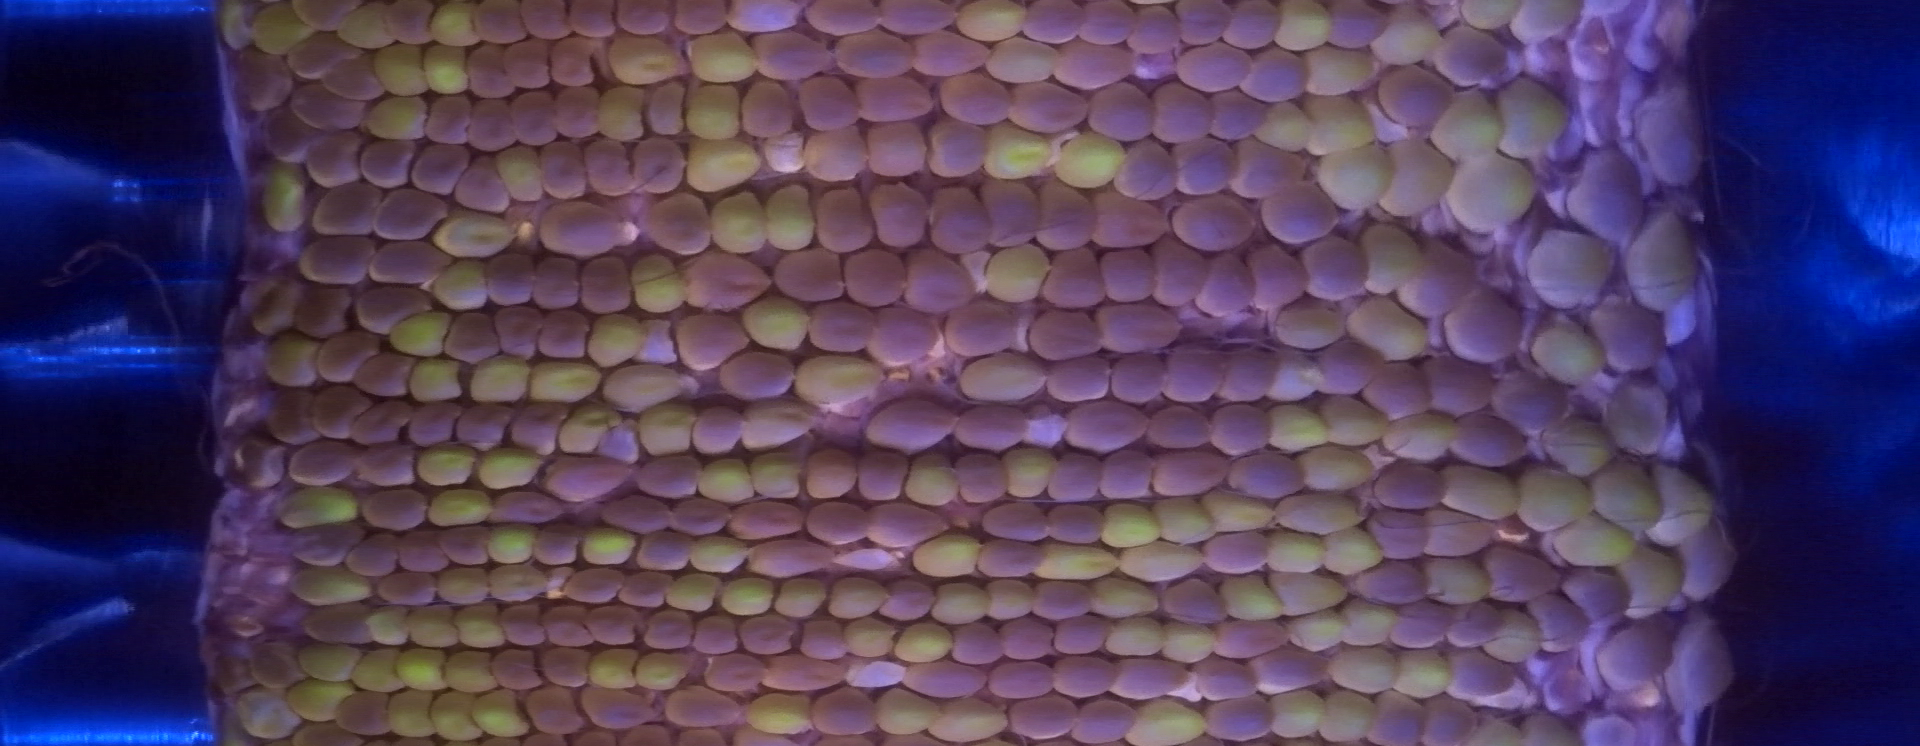fluorescent: (1618, 203, 1703, 317), (1438, 147, 1547, 235), (1633, 452, 1724, 557), (1523, 220, 1619, 314), (1485, 69, 1573, 167), (1581, 453, 1674, 543), (1373, 134, 1461, 225), (1501, 462, 1604, 538), (1288, 88, 1389, 164), (1600, 372, 1681, 467), (1610, 541, 1696, 624), (1424, 85, 1511, 165), (1524, 314, 1611, 394), (789, 348, 893, 415), (1434, 462, 1533, 532), (1341, 293, 1436, 365), (1544, 510, 1646, 577), (1349, 219, 1430, 304), (1311, 138, 1396, 218), (1046, 124, 1134, 200), (1536, 410, 1625, 484), (954, 348, 1056, 412), (250, 152, 320, 244), (1368, 1, 1453, 75), (1376, 404, 1471, 470), (976, 239, 1060, 312), (600, 359, 696, 423), (680, 24, 767, 94), (975, 118, 1058, 190), (1269, 485, 1375, 541), (978, 27, 1069, 93), (678, 134, 770, 198), (1408, 548, 1505, 609), (736, 293, 820, 363), (1024, 537, 1130, 592), (675, 78, 754, 152), (733, 393, 823, 457), (700, 185, 776, 260), (920, 688, 1018, 746), (598, 29, 686, 93), (1294, 42, 1382, 105), (1311, 387, 1396, 453), (623, 247, 700, 320), (1113, 695, 1221, 746), (1294, 439, 1386, 499), (460, 349, 544, 415), (269, 483, 369, 538), (429, 209, 523, 267), (279, 562, 384, 614), (1081, 572, 1176, 628), (1260, 342, 1333, 414), (629, 397, 709, 463), (1194, 485, 1286, 541), (255, 325, 328, 394), (516, 355, 610, 409), (1089, 494, 1173, 554), (1325, 642, 1409, 702), (1476, 604, 1549, 673), (578, 309, 654, 375), (759, 183, 824, 260), (736, 448, 813, 512), (460, 682, 538, 746), (1113, 538, 1216, 586), (1260, 567, 1356, 619), (1256, 398, 1343, 454), (223, 682, 302, 744), (239, 274, 311, 342), (1385, 642, 1461, 706), (1314, 526, 1396, 584), (240, 1, 317, 64), (236, 635, 313, 697), (485, 140, 553, 209), (996, 439, 1065, 507), (364, 40, 440, 103), (425, 254, 496, 320), (407, 434, 486, 492), (469, 440, 549, 499), (905, 528, 989, 583), (1142, 492, 1224, 549), (898, 450, 969, 514), (356, 92, 440, 147), (555, 401, 628, 463), (589, 80, 655, 148), (1261, 684, 1338, 742), (1311, 685, 1385, 746), (329, 1, 409, 58), (1100, 609, 1176, 668), (416, 684, 487, 746), (871, 687, 949, 744), (1506, 1, 1596, 50), (948, 1, 1035, 51), (398, 593, 468, 655), (378, 684, 449, 745), (1269, 1, 1340, 62), (920, 575, 998, 630), (1331, 594, 1406, 652), (573, 519, 650, 575), (1248, 97, 1321, 154), (885, 614, 960, 670), (446, 597, 513, 659), (388, 639, 456, 702), (624, 646, 704, 698), (383, 307, 459, 363), (741, 688, 824, 739), (400, 353, 474, 409), (414, 39, 479, 103), (691, 454, 765, 510), (201, 642, 269, 702), (418, 484, 503, 532), (343, 646, 414, 703), (681, 530, 758, 583), (289, 638, 370, 688), (710, 570, 785, 624), (1258, 529, 1333, 582), (1149, 612, 1221, 668), (429, 559, 500, 614), (480, 559, 551, 614), (280, 677, 366, 723), (659, 563, 729, 619), (479, 517, 549, 572), (823, 570, 894, 624), (436, 644, 504, 699), (1281, 608, 1356, 658), (419, 1, 484, 58), (768, 573, 835, 627), (835, 610, 905, 661), (580, 644, 645, 698), (360, 600, 418, 653), (211, 1, 262, 59), (1453, 1, 1528, 38)
nonfluorescent: (1625, 62, 1716, 194), (1561, 140, 1656, 254), (1658, 601, 1744, 724), (1438, 272, 1533, 372), (1589, 609, 1682, 698), (1584, 290, 1679, 377), (1401, 229, 1480, 330), (858, 390, 971, 458), (1080, 187, 1184, 258), (1254, 175, 1348, 254), (1671, 514, 1749, 610), (1236, 235, 1320, 322), (1487, 369, 1584, 443), (1476, 538, 1573, 612), (1054, 390, 1160, 458), (1416, 348, 1504, 428), (1423, 20, 1520, 92), (1161, 127, 1251, 203), (1090, 296, 1191, 364), (853, 300, 947, 374), (1168, 187, 1266, 257), (855, 174, 940, 254), (895, 243, 981, 322), (680, 247, 778, 316), (1441, 404, 1536, 475), (1080, 77, 1169, 152), (801, 180, 885, 258), (1371, 58, 1464, 129), (975, 170, 1051, 257), (536, 447, 644, 508), (534, 197, 633, 263), (1031, 240, 1116, 317), (999, 77, 1100, 142), (1029, 174, 1104, 260), (1228, 134, 1314, 209), (1049, 36, 1153, 98), (1098, 134, 1189, 205), (1240, 639, 1341, 703), (1298, 230, 1379, 309), (1191, 245, 1269, 327), (1307, 333, 1396, 403), (1139, 235, 1215, 317), (637, 187, 720, 262), (1155, 338, 1240, 410), (669, 309, 756, 380), (1021, 300, 1111, 369), (1374, 592, 1463, 660), (1221, 443, 1315, 508), (1229, 40, 1320, 108), (1359, 356, 1445, 428), (1171, 37, 1270, 98), (1141, 443, 1240, 505), (920, 183, 999, 258), (1524, 588, 1600, 668), (931, 67, 1024, 132), (1343, 552, 1436, 617), (1142, 78, 1224, 152), (828, 23, 924, 85), (949, 398, 1043, 461), (901, 24, 999, 85), (767, 240, 853, 307), (1438, 639, 1524, 707), (748, 24, 844, 86), (302, 176, 391, 243), (845, 69, 939, 130), (938, 298, 1024, 365), (366, 184, 457, 247), (294, 229, 384, 293), (833, 243, 913, 314), (740, 530, 844, 586), (350, 278, 443, 339), (915, 114, 996, 184), (858, 499, 958, 555), (1153, 572, 1238, 638), (1213, 341, 1293, 410), (1140, 398, 1226, 462), (1359, 503, 1439, 572), (893, 655, 996, 708), (855, 118, 938, 183), (360, 236, 458, 292), (800, 296, 883, 360), (1091, 243, 1169, 310), (1560, 563, 1640, 630), (1096, 345, 1178, 409), (1190, 648, 1273, 710), (1202, 397, 1280, 464), (796, 122, 876, 187), (1036, 448, 1116, 513), (279, 434, 369, 491), (1103, 652, 1196, 707), (714, 345, 802, 403), (1000, 688, 1089, 746), (1191, 527, 1283, 582), (304, 382, 380, 448), (1369, 457, 1456, 514), (1044, 648, 1128, 708), (980, 652, 1070, 707), (948, 442, 1018, 513), (229, 44, 298, 116), (793, 69, 866, 137), (294, 598, 386, 652), (353, 481, 442, 537), (720, 495, 816, 546), (1198, 687, 1281, 746), (285, 518, 373, 573), (1201, 612, 1296, 664), (1089, 445, 1163, 510), (1200, 85, 1276, 148), (285, 81, 370, 137), (310, 326, 386, 388), (1359, 684, 1435, 746), (572, 251, 642, 318), (804, 684, 888, 740), (503, 396, 576, 461), (258, 386, 331, 451), (287, 279, 360, 343), (1038, 352, 1118, 410), (594, 491, 682, 544), (756, 650, 852, 698), (348, 435, 427, 492), (574, 682, 661, 735), (973, 495, 1058, 549), (299, 127, 367, 194), (1063, 693, 1149, 746), (1315, 1, 1393, 59), (519, 680, 593, 741), (283, 31, 366, 85), (800, 495, 880, 550), (660, 680, 744, 733), (240, 631, 310, 695), (796, 443, 866, 507), (1409, 688, 1487, 746), (437, 307, 509, 369), (186, 597, 276, 646), (403, 137, 474, 198), (633, 450, 708, 507), (624, 134, 691, 198), (845, 445, 916, 505), (970, 532, 1051, 584), (869, 575, 948, 628), (576, 134, 640, 198), (737, 77, 801, 143), (993, 612, 1069, 668), (482, 485, 572, 532), (448, 398, 522, 454), (533, 136, 594, 203), (1041, 497, 1116, 552), (491, 597, 560, 657), (1439, 597, 1509, 655), (1114, 2, 1187, 59), (452, 156, 516, 219), (260, 105, 324, 168), (943, 617, 1016, 673), (527, 304, 594, 364), (531, 598, 599, 658), (694, 648, 773, 699), (546, 82, 610, 145), (480, 249, 542, 312), (343, 398, 418, 451), (1044, 610, 1120, 661), (528, 254, 590, 316), (486, 301, 549, 364), (662, 491, 740, 541), (1024, 575, 1101, 625), (869, 1, 965, 42), (628, 526, 699, 579), (460, 40, 520, 104), (355, 134, 419, 194), (481, 644, 551, 698), (463, 93, 523, 156), (729, 608, 800, 660), (1015, 1, 1100, 45), (801, 1, 890, 43), (348, 350, 416, 404), (331, 688, 400, 741), (541, 33, 602, 93), (504, 87, 564, 148), (496, 34, 560, 92), (231, 436, 296, 492), (533, 638, 598, 695), (557, 560, 629, 610), (609, 563, 682, 612), (389, 523, 456, 577), (1221, 1, 1287, 55), (687, 404, 752, 458), (789, 614, 853, 668), (1071, 1, 1142, 50), (1164, 1, 1233, 51), (339, 530, 407, 581), (421, 89, 478, 149), (404, 397, 465, 452), (315, 58, 387, 104), (367, 567, 446, 609), (431, 519, 496, 570), (637, 604, 699, 655), (527, 518, 585, 572), (467, 1, 531, 48), (684, 612, 746, 661), (583, 600, 640, 652), (514, 1, 579, 47), (647, 77, 694, 138), (722, 1, 804, 37), (384, 1, 443, 50), (561, 1, 627, 43), (591, 418, 650, 464), (287, 1, 364, 36), (669, 1, 737, 39), (203, 654, 260, 699), (612, 1, 673, 40)
